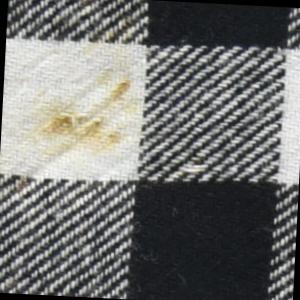Damage: (42, 77, 136, 146)
Oil Stain: (1, 1, 160, 201)
